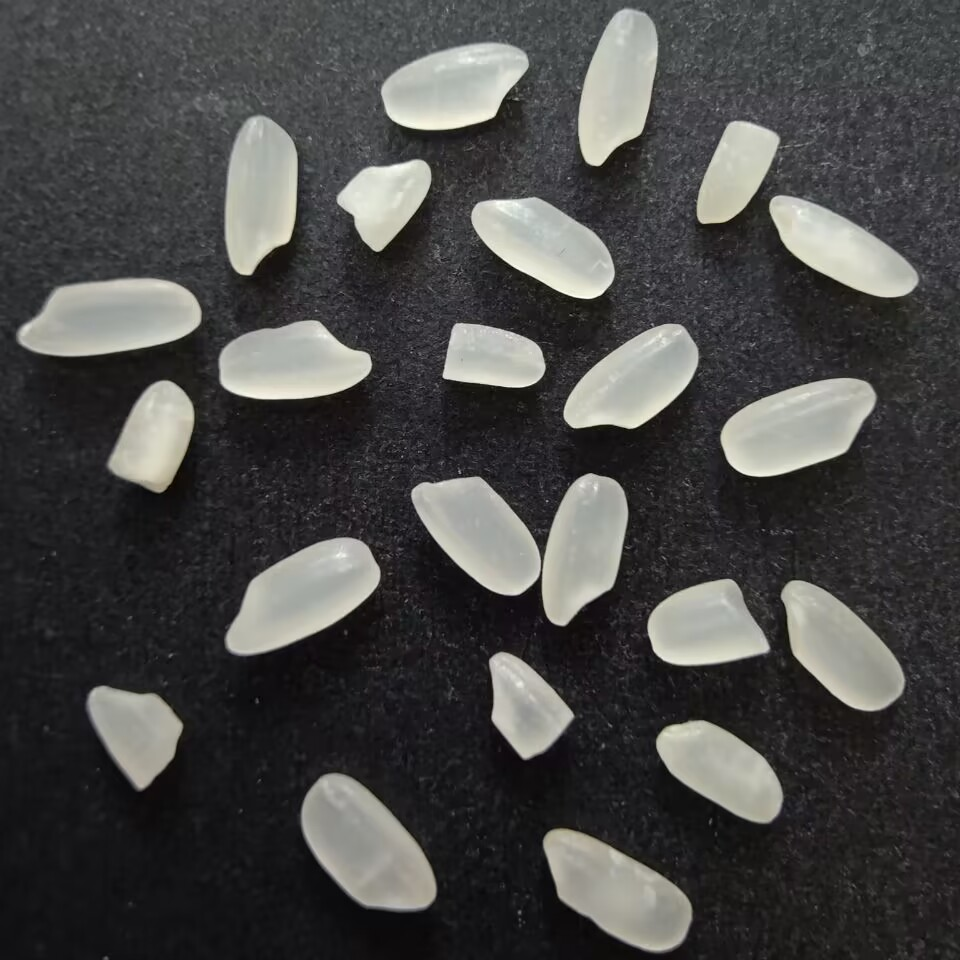broken: (643, 572, 773, 669), (82, 683, 190, 797), (101, 374, 195, 496), (483, 647, 578, 764), (690, 114, 784, 229), (332, 154, 432, 254), (437, 320, 552, 392)
rice: (538, 818, 695, 956), (218, 532, 388, 657), (295, 771, 438, 914), (778, 574, 910, 717), (408, 472, 543, 605), (716, 373, 880, 482), (767, 193, 926, 303), (10, 274, 207, 362), (560, 318, 701, 434), (466, 194, 619, 300), (651, 717, 787, 826), (213, 316, 376, 406), (543, 468, 632, 631), (377, 39, 533, 131), (222, 106, 305, 277), (577, 6, 659, 173)
